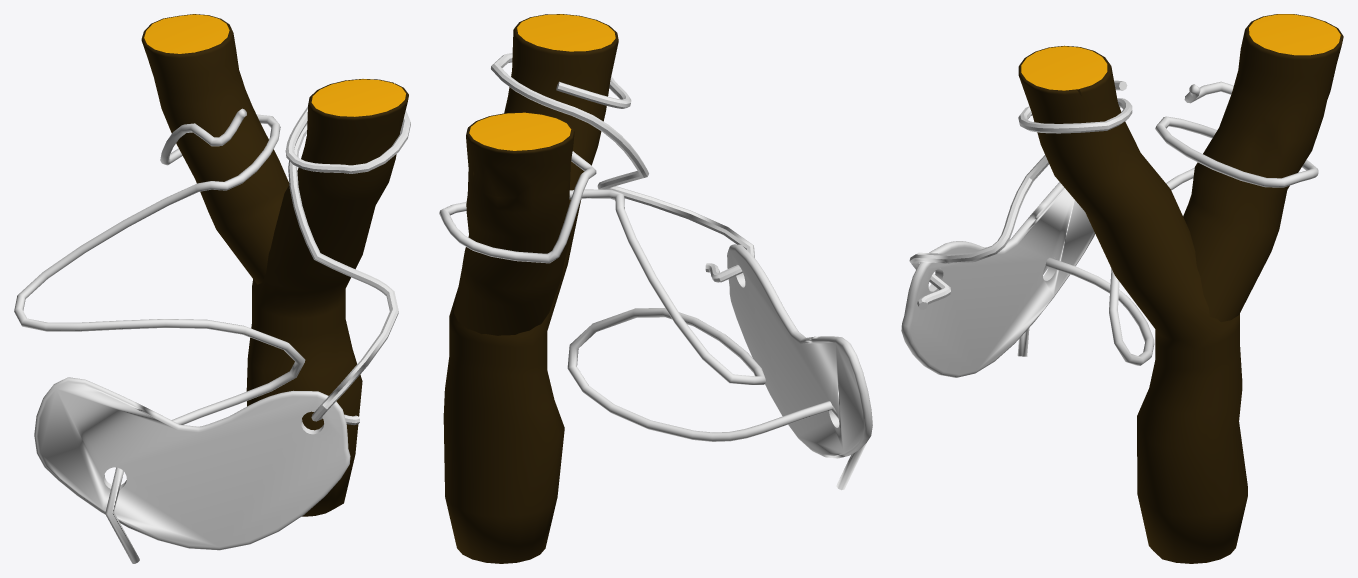
File: Tirachinas Arreglado.fbx
3 renders of one model, left to right at view 1: azimuth 30°, elevation 25°; view 2: azimuth 150°, elevation 25°; view 3: azimuth 270°, elevation 25°, orthographic. The views are drawn at different scales.
Parts seen in each view (by area): view 1: Cylinder002, Line003, Line001, Line002; view 2: Cylinder002, Line003, Line001, Line002; view 3: Cylinder002, Line003, Line001, Line002.
Boxes of the visible parts, box(x1,y1,x2,y2) form: Cylinder002: box(141, 14, 408, 516); Line003: box(34, 377, 350, 550); Line001: box(14, 108, 305, 563); Line002: box(285, 106, 410, 425); Cylinder002: box(443, 14, 618, 563); Line003: box(727, 244, 872, 458); Line001: box(439, 151, 866, 490); Line002: box(491, 53, 754, 282); Cylinder002: box(1018, 14, 1343, 563); Line003: box(901, 182, 1095, 377); Line001: box(1017, 81, 1318, 365); Line002: box(909, 80, 1132, 309).
Size of the model in its own units: 139 by 164 by 138.
1 material, 1 textured.
